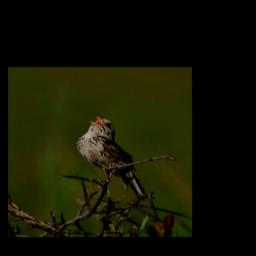Sparrow: (73, 113, 149, 204)
